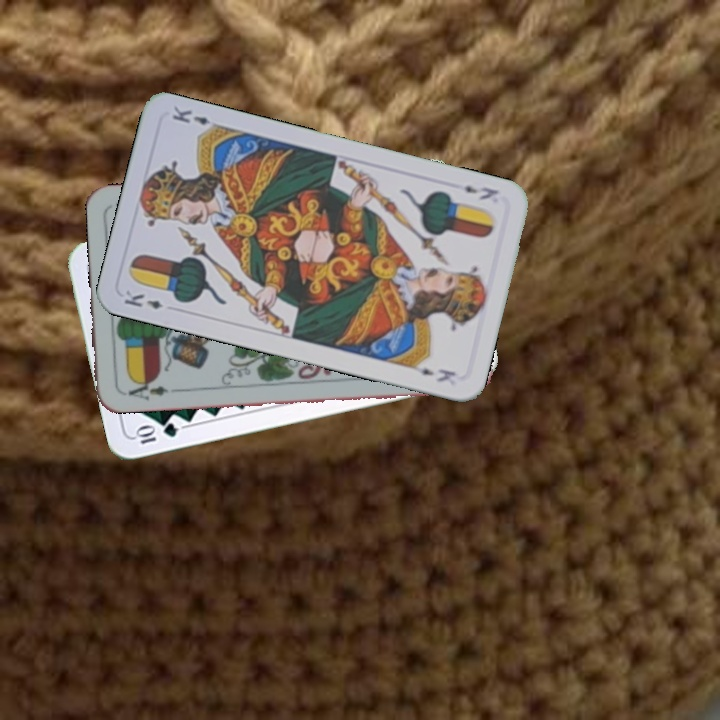EA: (119, 376, 171, 403)
EK: (120, 286, 165, 312), (460, 181, 501, 203)
G10: (131, 419, 181, 447)
